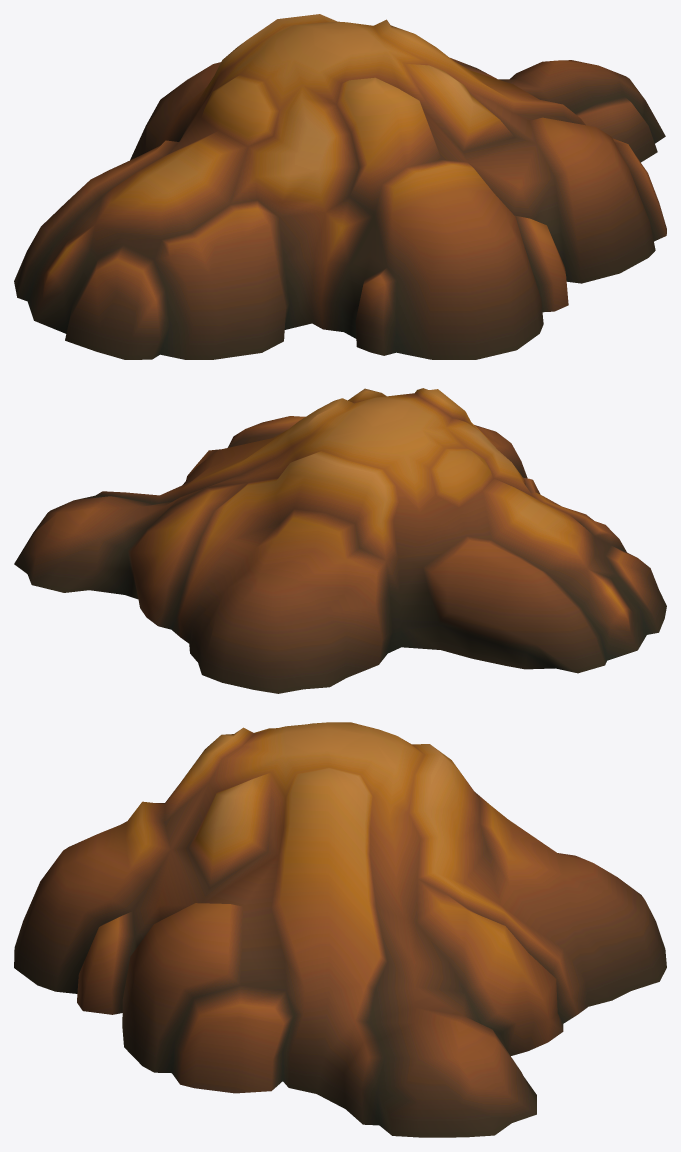
Rendered from m_Rock04_B.fbx.
3 renders of one model, top to bottom at view 1: azimuth 30°, elevation 25°; view 2: azimuth 150°, elevation 25°; view 3: azimuth 270°, elevation 25°, orthographic. The views are drawn at different scales.
Parts seen in each view (by area): view 1: m_Rock04_B; view 2: m_Rock04_B; view 3: m_Rock04_B.
Boxes of the visible parts, box(x1,y1,x2,y2) form: m_Rock04_B: box(14, 14, 666, 359); m_Rock04_B: box(14, 388, 666, 693); m_Rock04_B: box(14, 722, 666, 1137).
Bounding box in the file's own units: 1419 × 432 × 1158.
